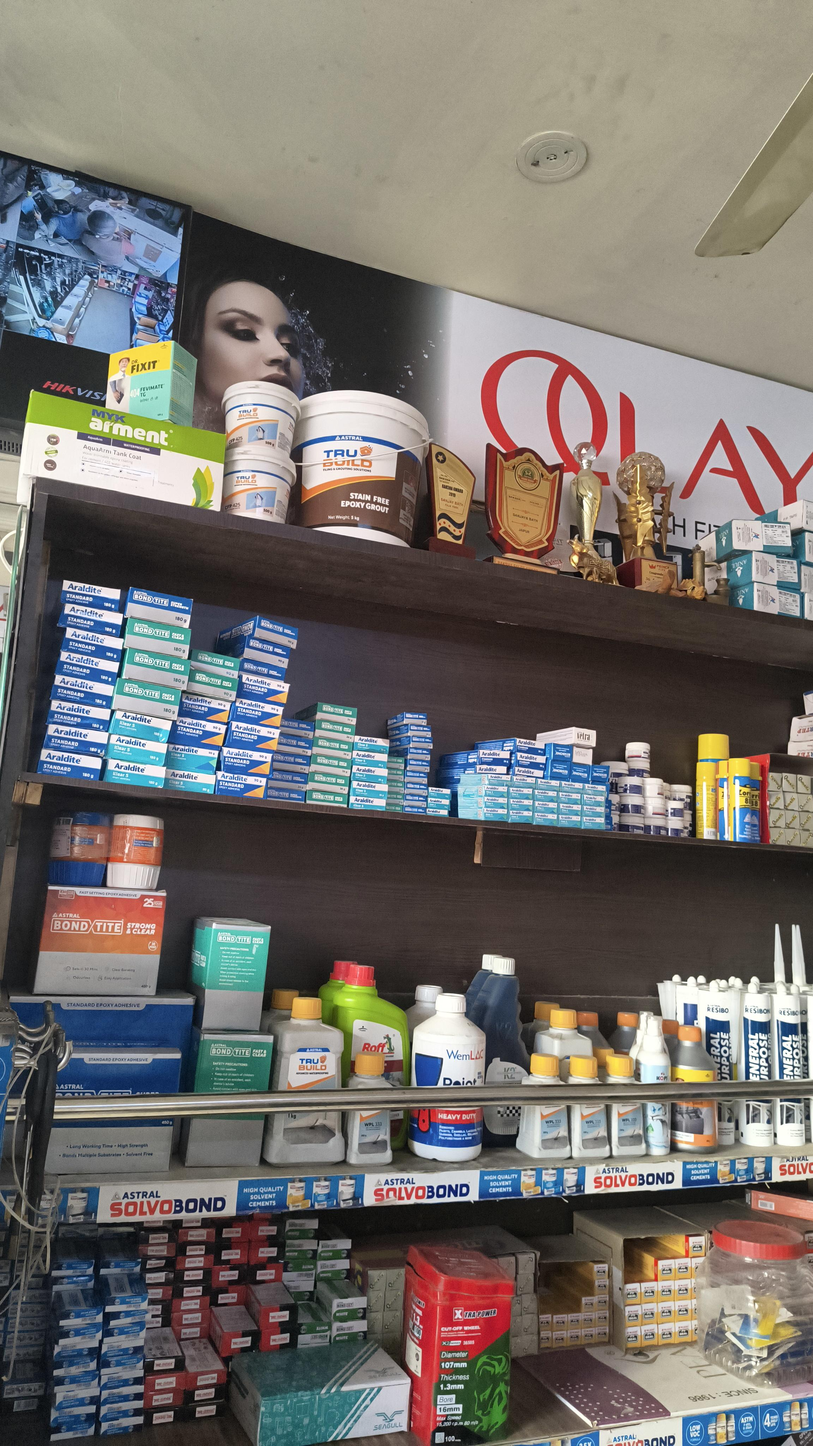Araldite_KLEAR 5: (109, 710, 173, 743), (105, 735, 169, 767), (102, 759, 167, 789), (166, 744, 220, 774), (163, 768, 217, 794), (353, 736, 390, 756), (351, 766, 389, 784), (350, 782, 389, 799), (458, 786, 509, 799), (458, 798, 508, 811), (458, 774, 512, 786), (352, 752, 387, 770), (458, 810, 508, 822), (348, 798, 386, 812), (535, 812, 558, 827), (508, 811, 534, 824), (513, 776, 538, 789), (581, 816, 606, 829), (509, 800, 535, 812), (558, 792, 582, 805), (562, 781, 584, 795), (508, 788, 533, 800), (535, 790, 558, 803), (559, 804, 582, 817), (583, 795, 606, 808), (538, 779, 560, 792), (583, 806, 605, 819), (585, 783, 605, 797), (429, 788, 451, 800), (428, 799, 452, 810), (536, 802, 558, 814), (558, 816, 581, 827), (427, 809, 451, 817)
Araldite_STANDARD: (57, 603, 124, 637), (60, 627, 124, 662), (43, 724, 109, 757), (51, 675, 115, 709), (56, 653, 120, 686), (46, 701, 112, 732), (170, 716, 227, 751), (61, 580, 123, 612), (437, 766, 507, 794), (37, 750, 102, 780), (179, 693, 233, 726), (224, 723, 281, 754), (237, 675, 290, 707), (229, 699, 284, 729), (222, 748, 273, 778), (216, 772, 268, 800), (474, 738, 545, 755), (440, 750, 510, 767), (510, 753, 546, 770), (508, 767, 544, 779)
BONDTITE_FAST - CLEAR: (187, 916, 270, 1031), (193, 1028, 273, 1093), (111, 678, 182, 721), (120, 649, 192, 690), (123, 619, 191, 661), (187, 669, 239, 701), (294, 702, 358, 725), (191, 650, 241, 679), (309, 754, 352, 777), (314, 720, 356, 743), (312, 737, 354, 760), (307, 773, 350, 794), (306, 790, 348, 808), (387, 756, 405, 770), (387, 768, 405, 781), (387, 792, 405, 805), (388, 781, 404, 794), (386, 803, 403, 812)
BONDTITE_STRONG - CLEAR: (124, 587, 193, 629), (216, 616, 299, 648), (220, 636, 291, 670), (238, 658, 287, 683), (268, 770, 308, 792), (272, 752, 311, 774), (277, 734, 314, 756), (280, 718, 316, 740), (387, 724, 431, 739), (386, 713, 427, 729), (390, 737, 434, 750), (268, 787, 306, 802), (389, 749, 431, 760), (404, 769, 428, 785), (405, 784, 428, 797), (407, 760, 431, 772), (404, 794, 428, 806), (404, 806, 427, 814)
BONDTITE_SUPER STRENGTH: (50, 1050, 184, 1180), (20, 881, 168, 997), (13, 994, 195, 1046)
Dr. Fixit_404 fevimate tg: (105, 341, 198, 429)
RESIBOND_GENERAL PURPOSE GP 100: (698, 983, 741, 1080), (771, 982, 805, 1081), (739, 981, 771, 1081), (792, 985, 810, 1078), (775, 1097, 805, 1146)
